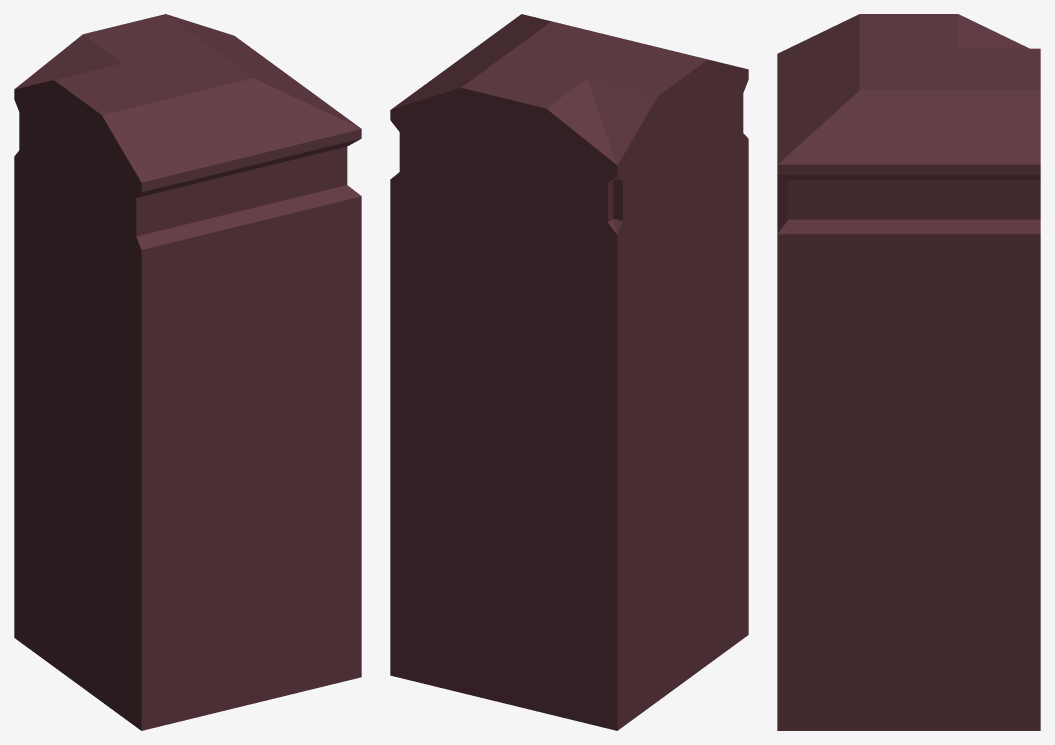
The model's file is india-wall-hindu-edge.glb.
3 renders of one model, left to right at view 1: azimuth 30°, elevation 25°; view 2: azimuth 150°, elevation 25°; view 3: azimuth 270°, elevation 25°, orthographic. The views are drawn at different scales.
Visible parts, largest first — view 1: wall-hindu-edge; view 2: wall-hindu-edge; view 3: wall-hindu-edge.
Part boxes in pixels (x1,y1,x2,y2): wall-hindu-edge: [14, 14, 361, 730]; wall-hindu-edge: [390, 14, 748, 730]; wall-hindu-edge: [777, 14, 1040, 730].
Bounding box in the file's own units: 2.4 × 6.1 × 2.4.
